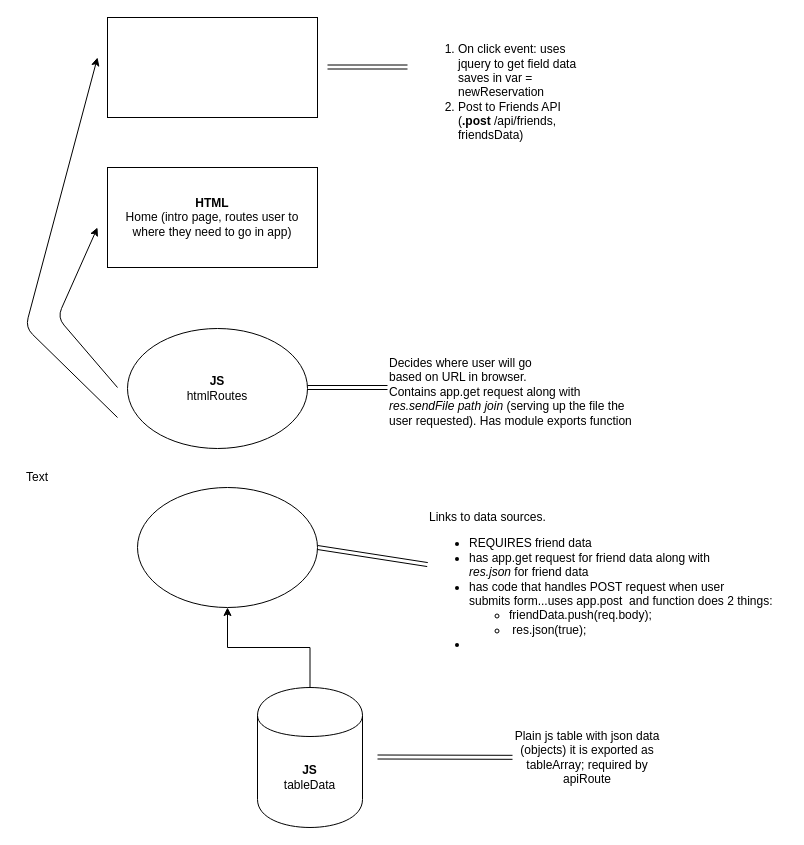
Image size: 804x845. Some labels were removed from this diagram. The shapes that lost their labels are listed below. From the top down, each one's box as (x1, y1, x2, y2) in pixels, then its label:
(106, 16, 318, 118): HTML Friend Survey (contains form - gets user input)
(136, 486, 318, 608): JS apiRoutes
